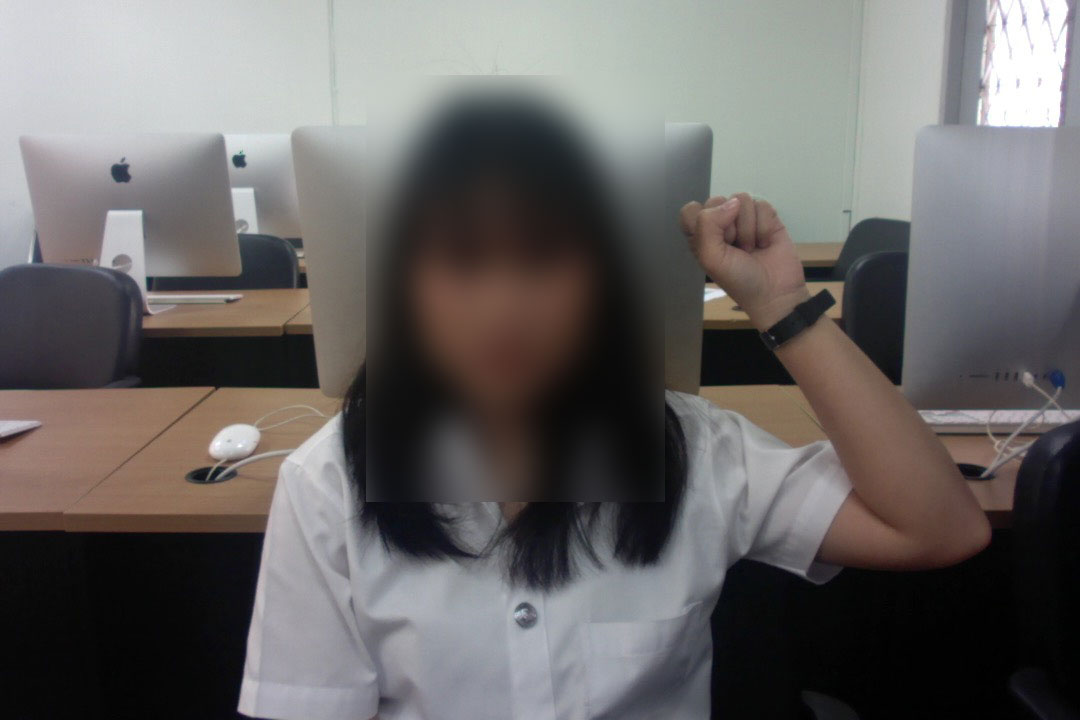sor: (675, 184, 819, 325)
